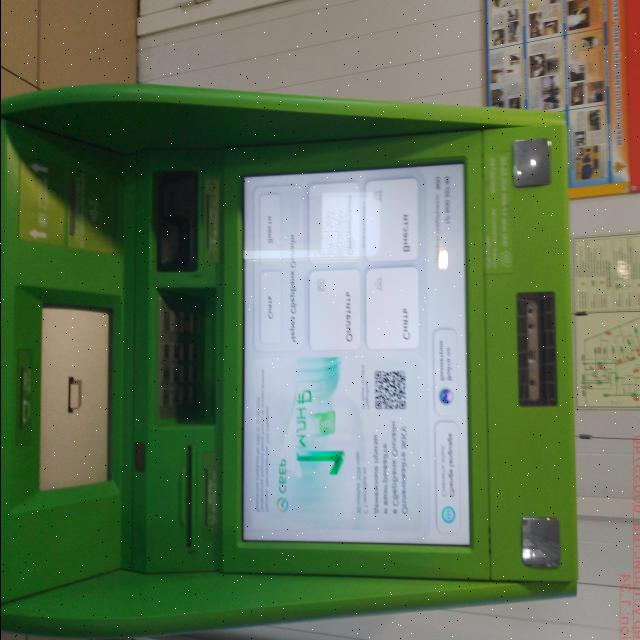bank: (0, 89, 581, 628)
